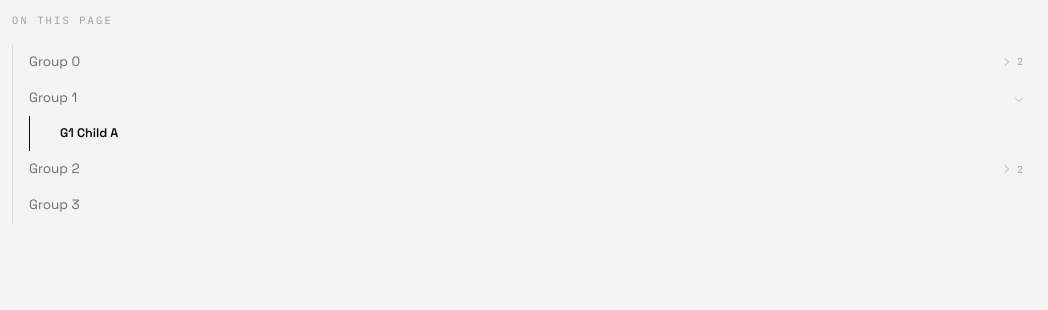
Test: ArticleToc › 自動收合（>8 項啟動分組） › 手動點擊 caret 可切換該組的展開/收合狀態，且不觸發 select
Click the element with test id "toc-caret-h-g0" at (1005, 62), box [1001,58,1009,66]
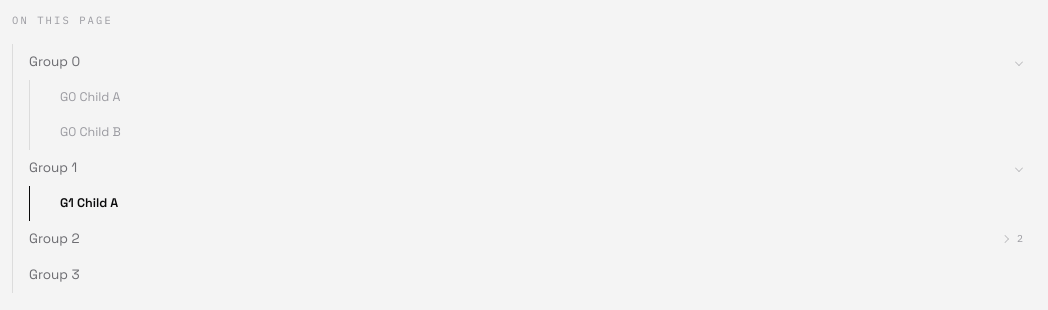
Expected: the button with test id "toc-link-h-g0-a" is shown, [29,80,1035,115]
